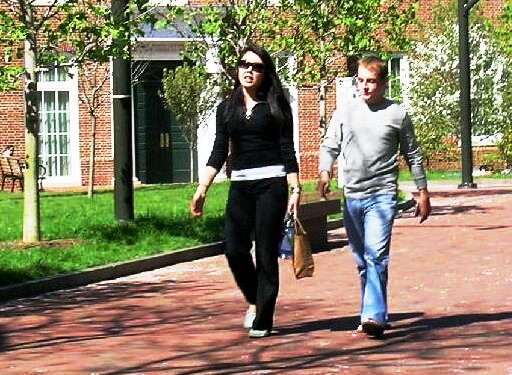person: (192, 36, 315, 335), (322, 53, 438, 336)
